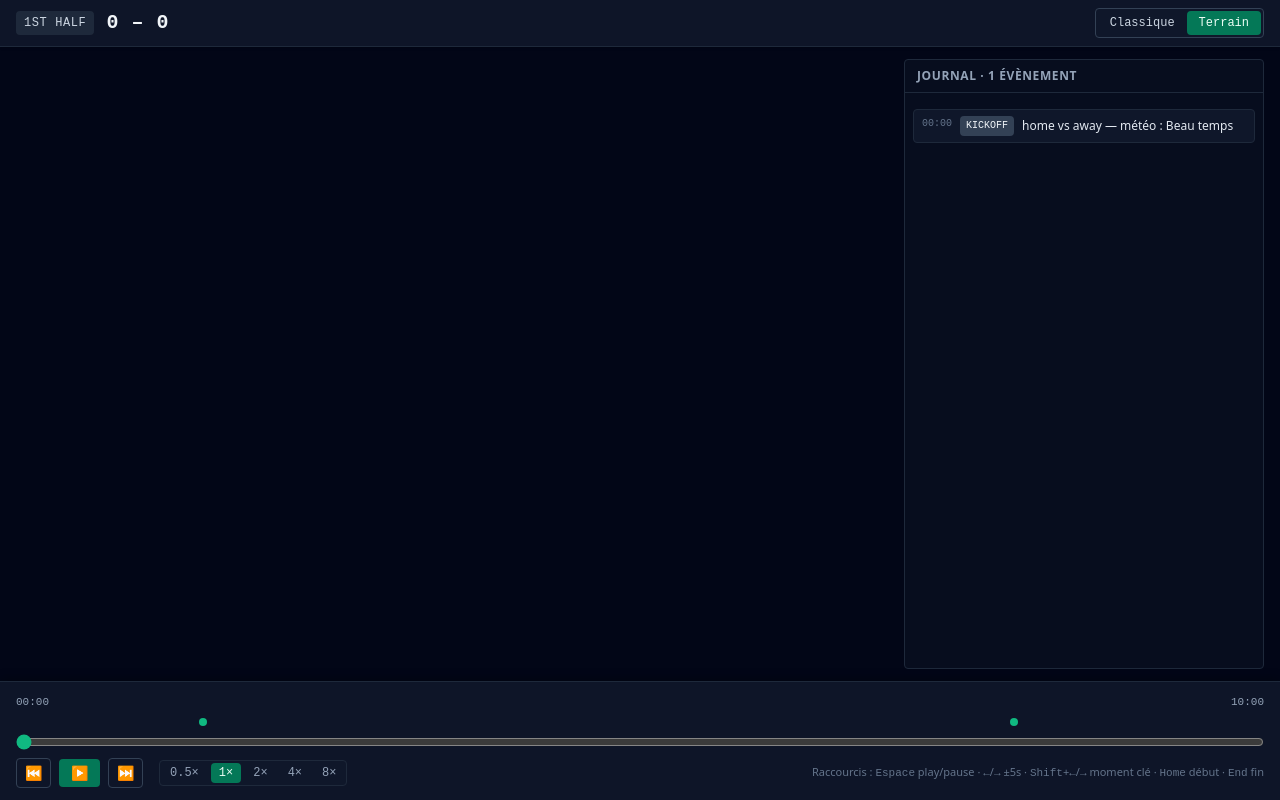
Test: <MatchReplayPlayer> — sprint 1.G.2 › skip-to-end affiche le score final + half=FT
Click the button with test id "replay-skip-end": (126, 773) [108, 758, 143, 788]
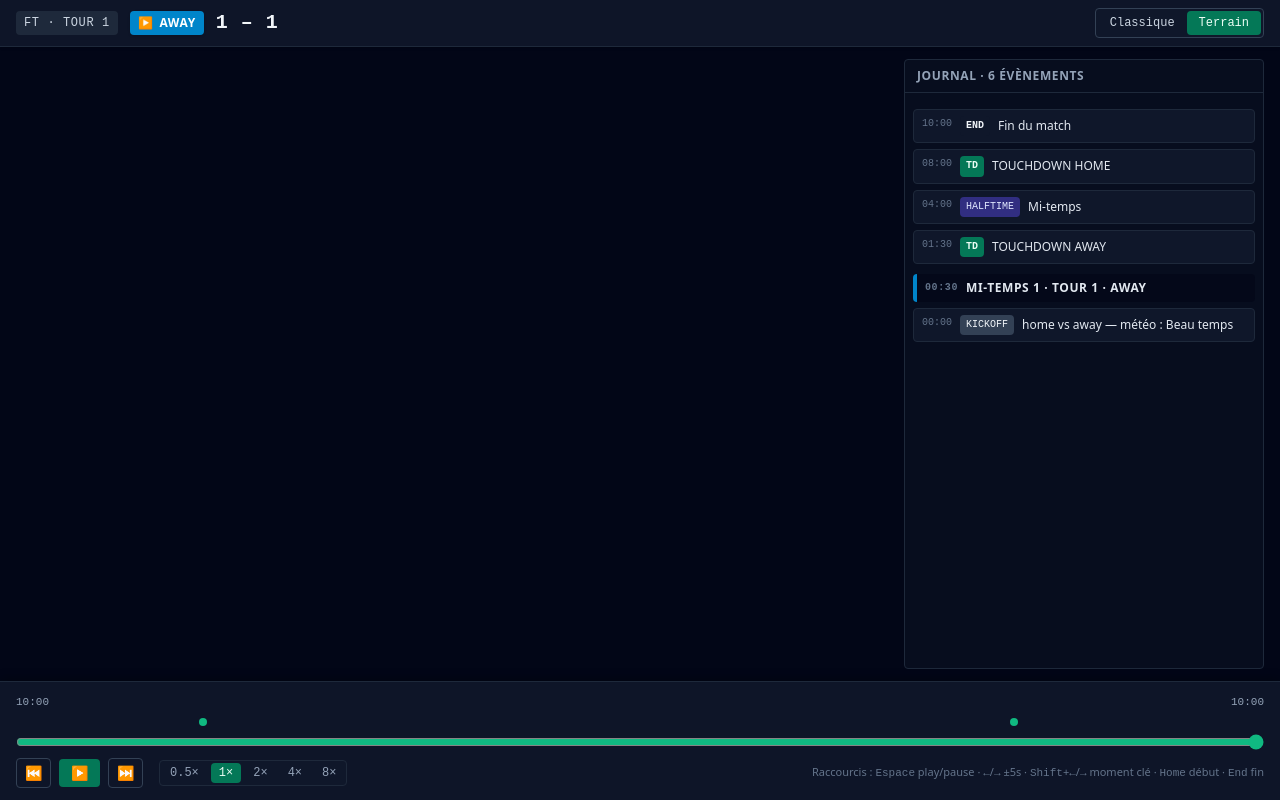
Check: the text with test id "replay-score" reads "1 – 1", box [216, 9, 278, 37]
Check: the text with test id "replay-half" shows "FT", box [24, 16, 40, 30]
Check: the text with test id "replay-current-time" reads "10:00", box [16, 696, 49, 708]
